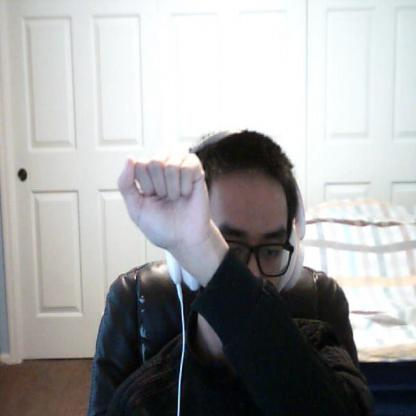fist: (109, 147, 215, 256)
